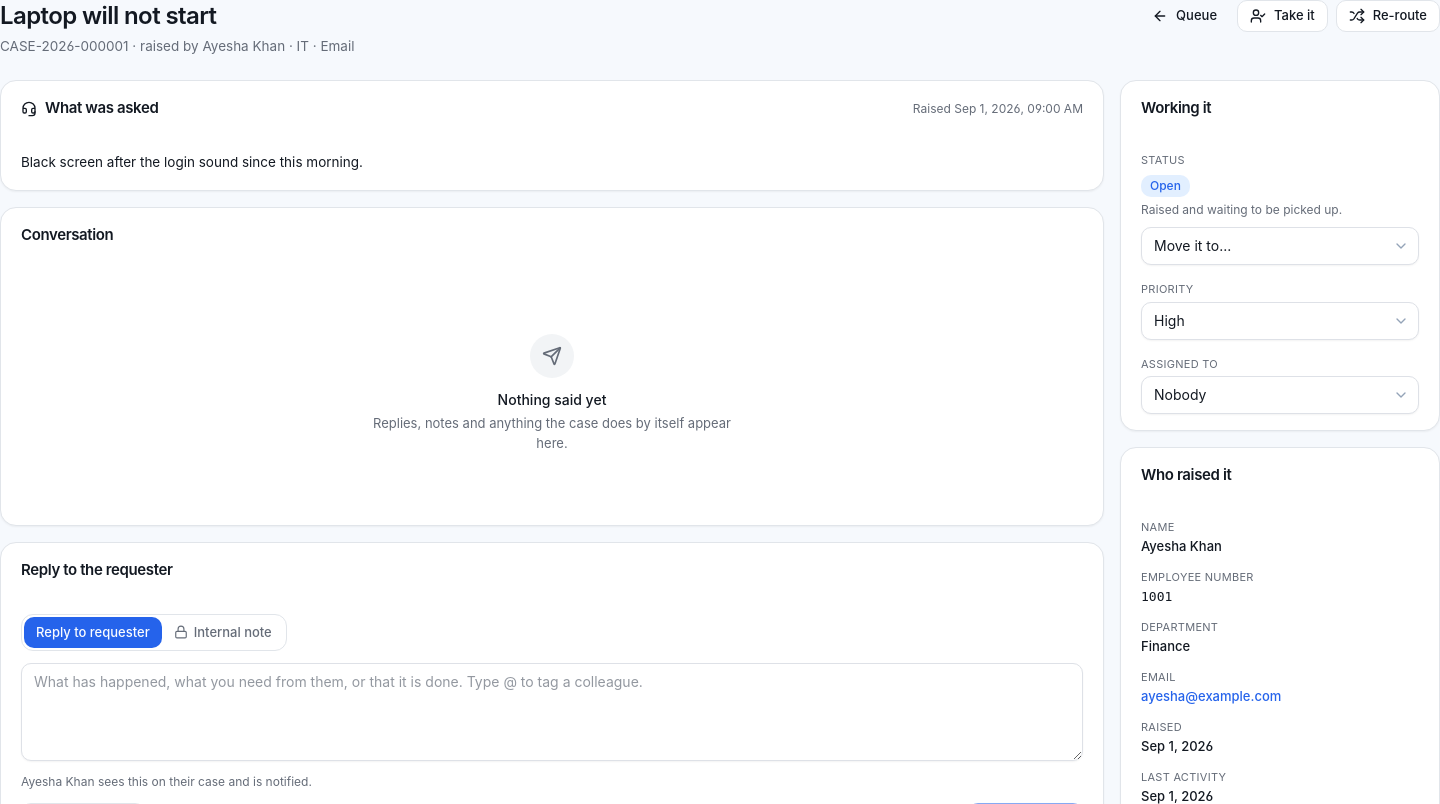
Scenario: working a case › names the requester on both sides of that choice
Expected: the text "Ayesha Khan sees this on their case and is notified." is shown, [21,774,312,789]
Click the tab "Internal note": (223, 632) [162,617,284,648]
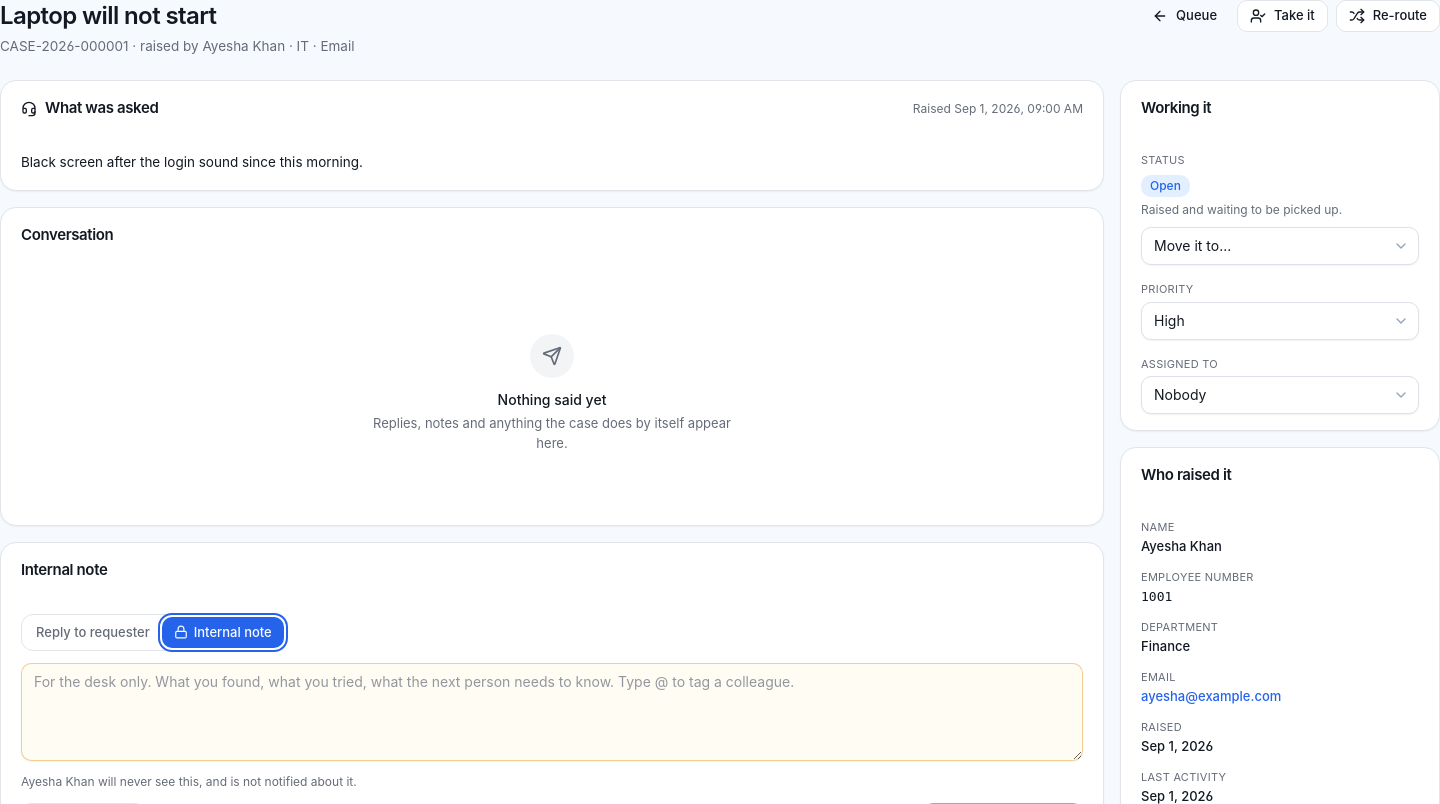
Expected: the text "Ayesha Khan will never see this, and is not notified about it." is shown, [21,774,357,789]
